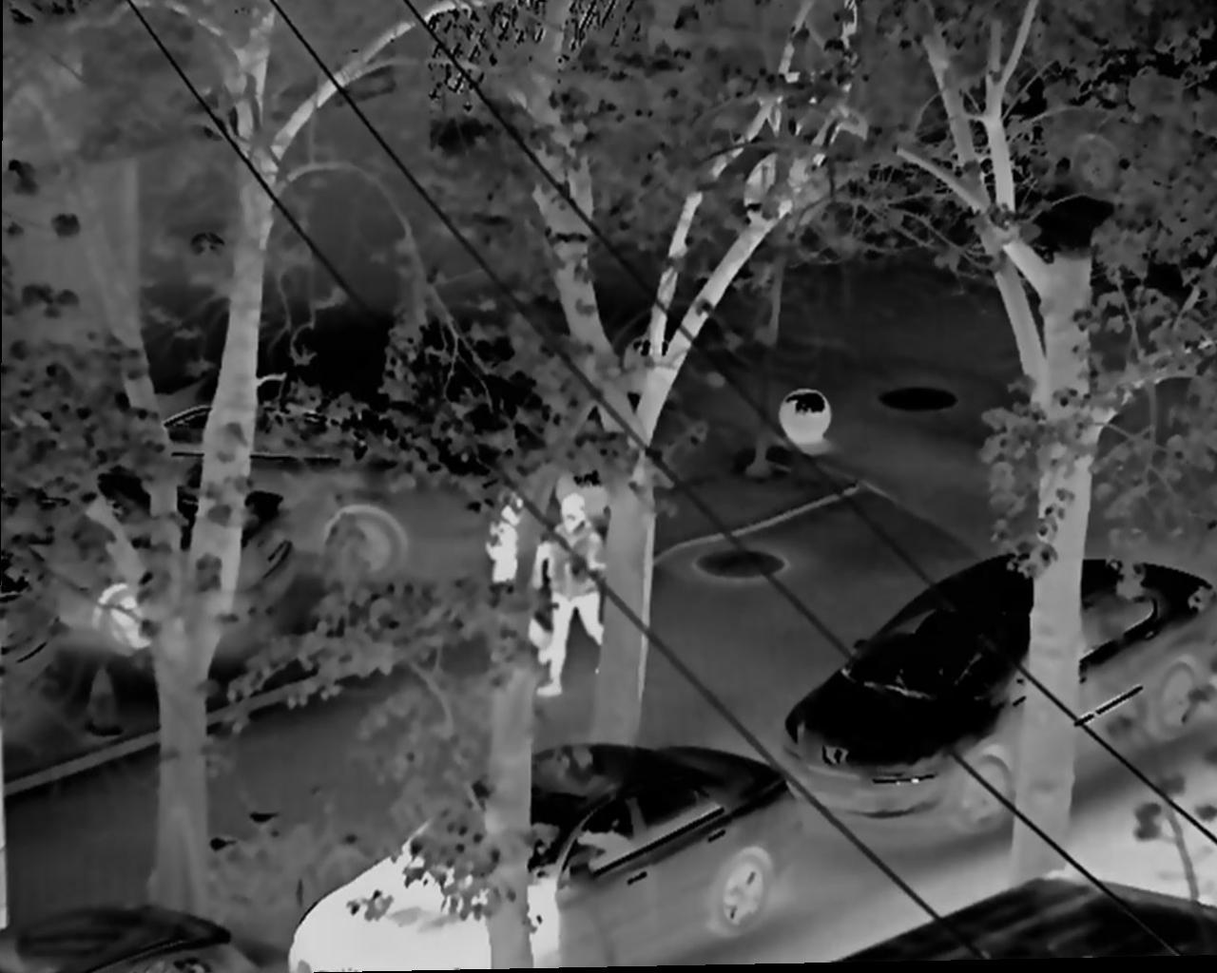person: (532, 489, 623, 698), (485, 484, 554, 690)
